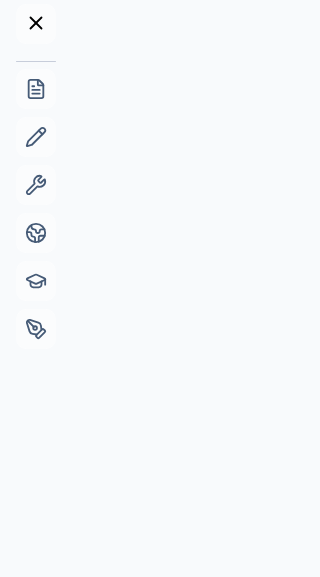
Test: AiPanel Component › Sottomenu Traduci › mostra le lingue dopo aver cliccato Traduci
The image size is (320, 577).
Step 1. Click the button named "Traduci" → (36, 233), box [16,213,56,253]
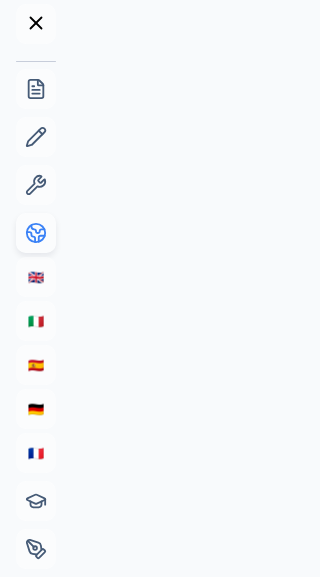
Expected: the button named "Inglese" is shown, [16,257,56,297]
Expected: the button named "Italiano" is shown, [16,301,56,341]
Expected: the button named "Spagnolo" is shown, [16,345,56,385]
